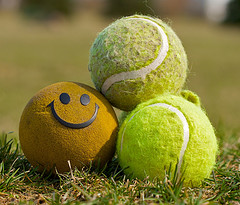tennis ball: (87, 12, 191, 112), (114, 92, 220, 188)
